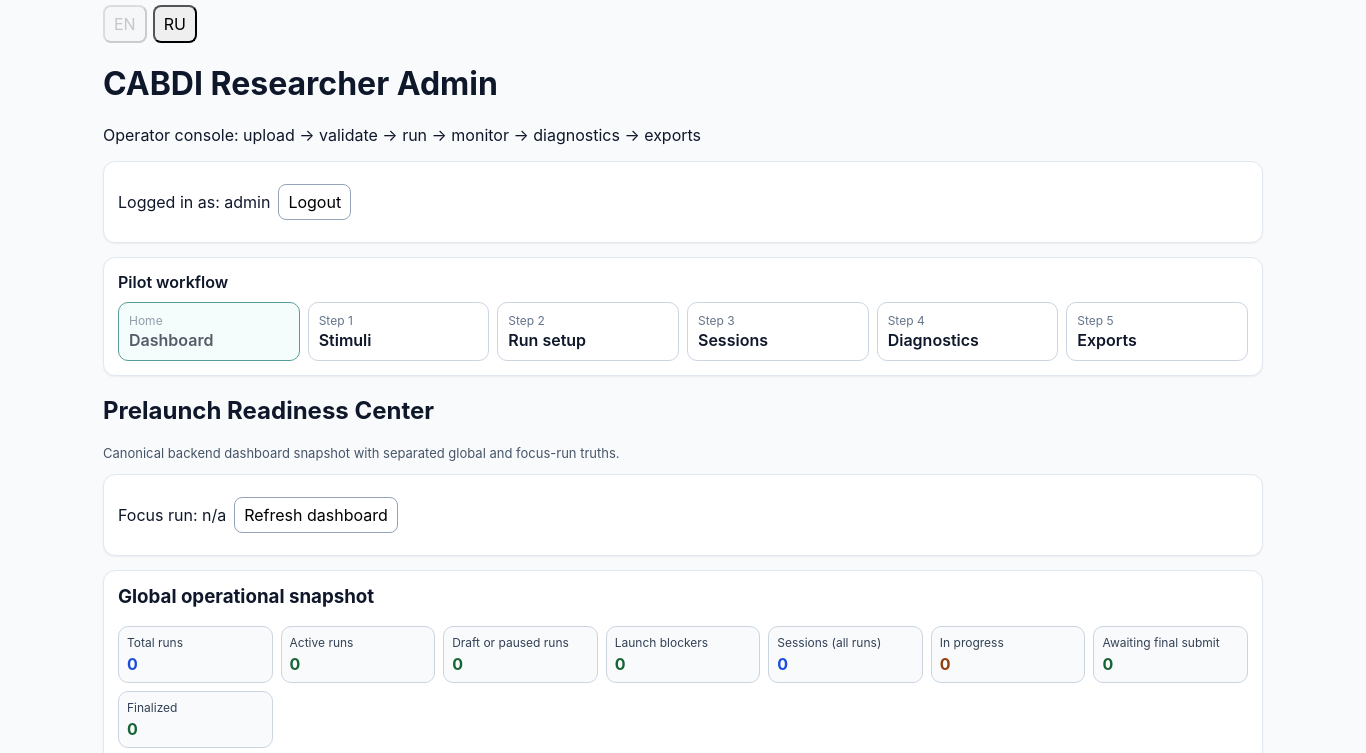
Test: researcher auth shell › uses backend preview selection summary for main-bank label instead of local stimulus metadata
Expected: the text "Logged in as: admin" is shown, [118, 192, 270, 212]
Click the button with aria-label "Step 2: Create & Control Runs". click: (588, 331)
box: [497, 302, 679, 361]
(page scrolled)
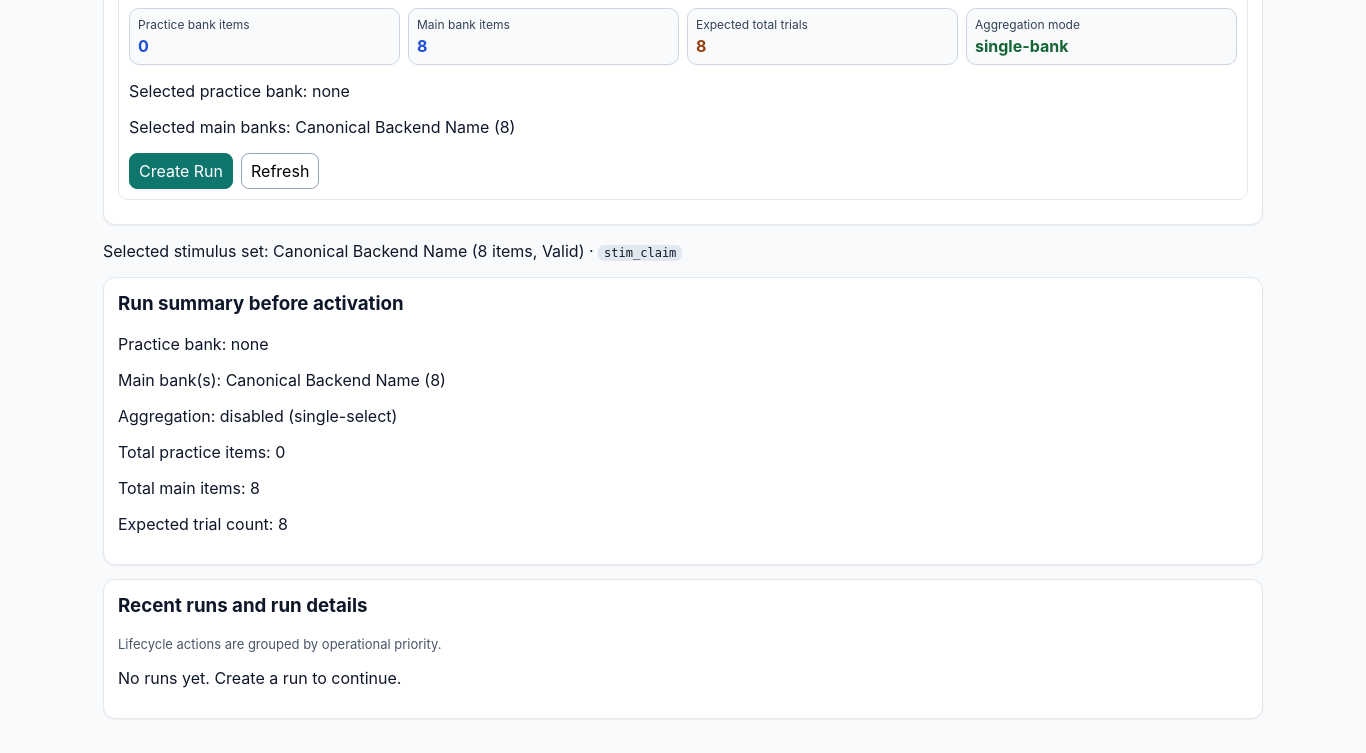
Expected: the text "Main bank(s): Canonical Backend Name (8)" is shown, [118, 370, 446, 390]
